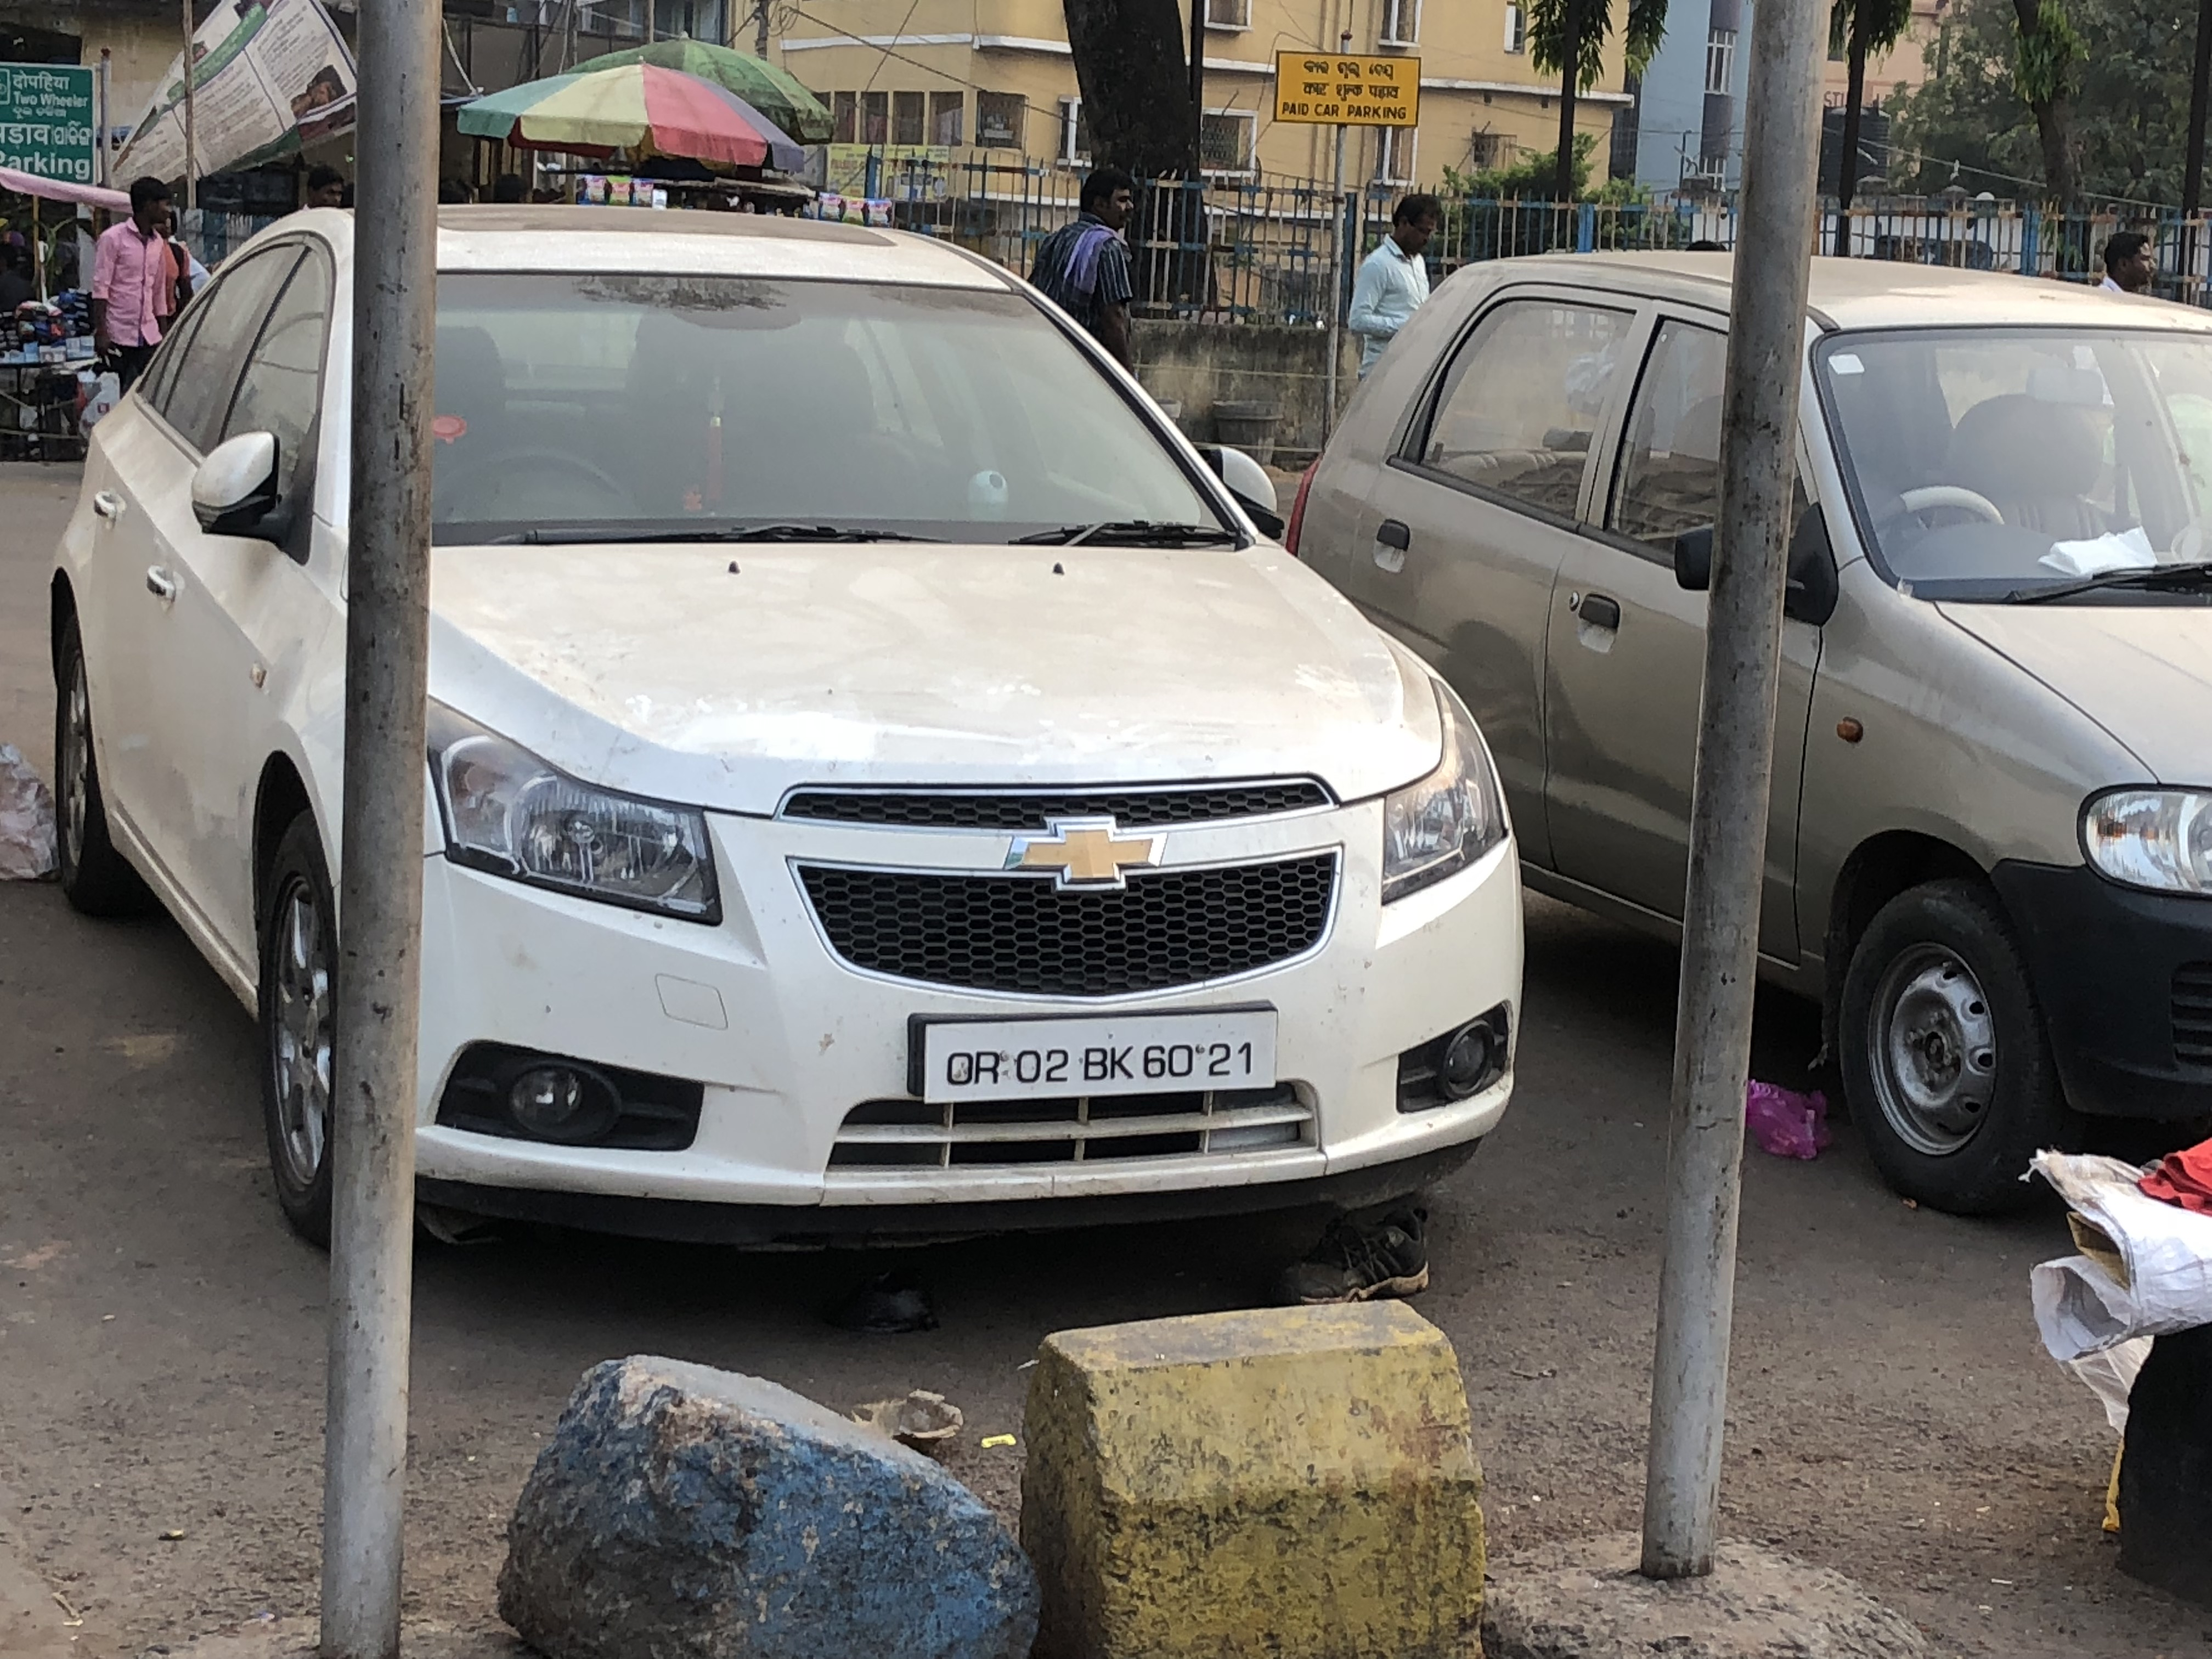licenseplate: (917, 998, 1286, 1095)
